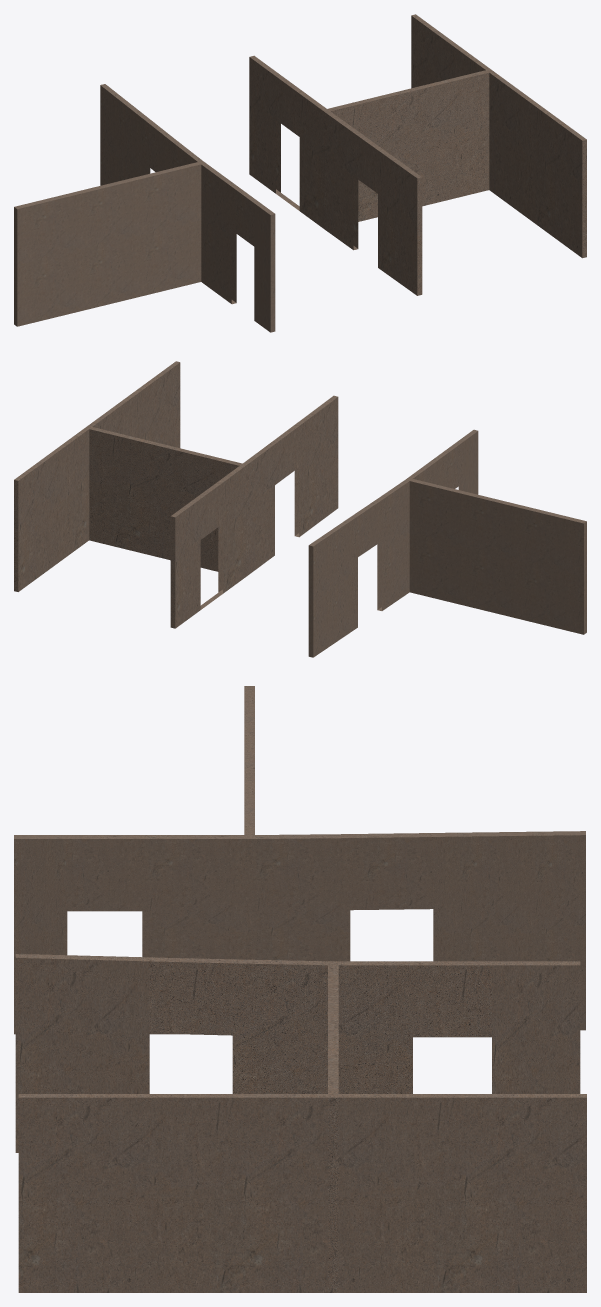
The model's file is House_Wall.fbx.
3 renders of one model, top to bottom at view 1: azimuth 30°, elevation 25°; view 2: azimuth 150°, elevation 25°; view 3: azimuth 270°, elevation 25°, orthographic. The views are drawn at different scales.
Visible parts, largest first — view 1: House_Wall; view 2: House_Wall; view 3: House_Wall.
Part boxes in pixels (x1,y1,x2,y2): House_Wall: [14, 14, 586, 332]; House_Wall: [14, 361, 586, 657]; House_Wall: [14, 686, 586, 1292].
Bounding box in the file's own units: 1787 × 422 × 1065.
1 material, 1 textured.
